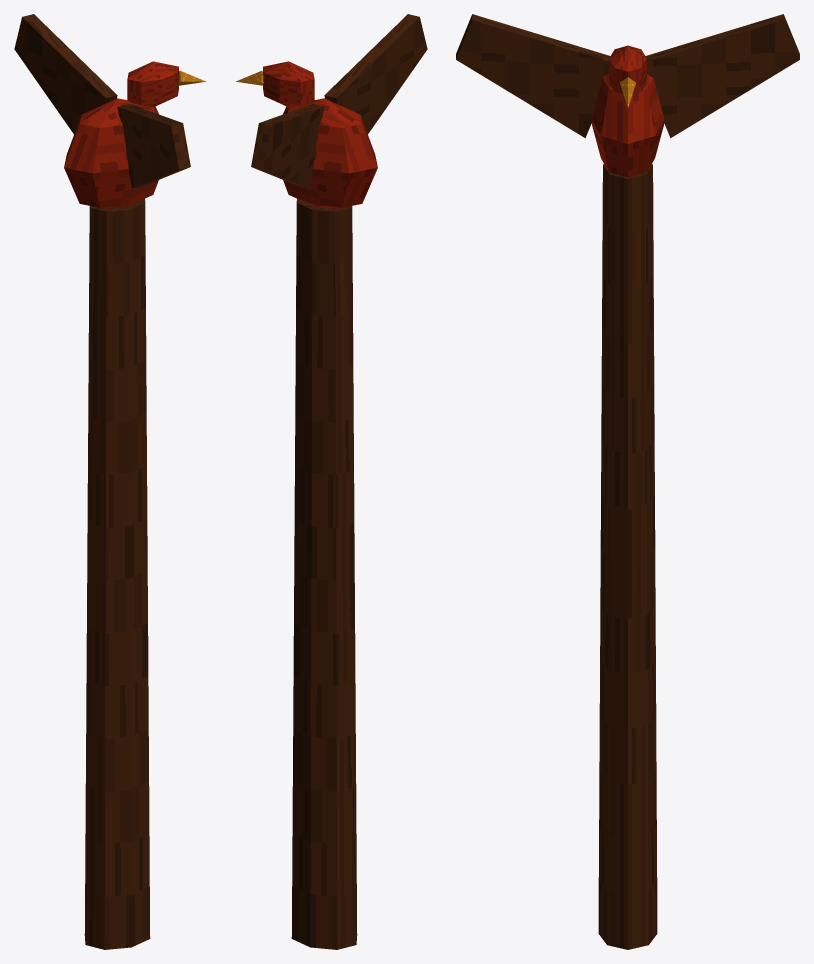
Rendered from aguila.glb.
The picture shows the model from 3 angles, left to right: view 1: azimuth 30°, elevation 25°; view 2: azimuth 150°, elevation 25°; view 3: azimuth 270°, elevation 25°; orthographic projection. The views are drawn at different scales.
Parts seen in each view (by area): view 1: poste, alas, cuerpo, cabeza; view 2: poste, alas, cuerpo, cabeza; view 3: poste, alas, cuerpo, cabeza.
Part boxes in pixels (x1,y1,x2,y2): poste: (84, 199, 150, 949); alas: (14, 14, 190, 188); cuerpo: (64, 98, 158, 208); cabeza: (127, 61, 178, 106); poste: (291, 199, 357, 949); alas: (251, 14, 427, 188); cuerpo: (283, 98, 377, 208); cabeza: (263, 61, 314, 106); poste: (598, 164, 657, 949); alas: (456, 14, 799, 138); cuerpo: (591, 74, 664, 177); cabeza: (609, 45, 646, 94).
Bounding box in the file's own units: 0.6 × 3.5 × 1.2.
1 material, 1 textured.
